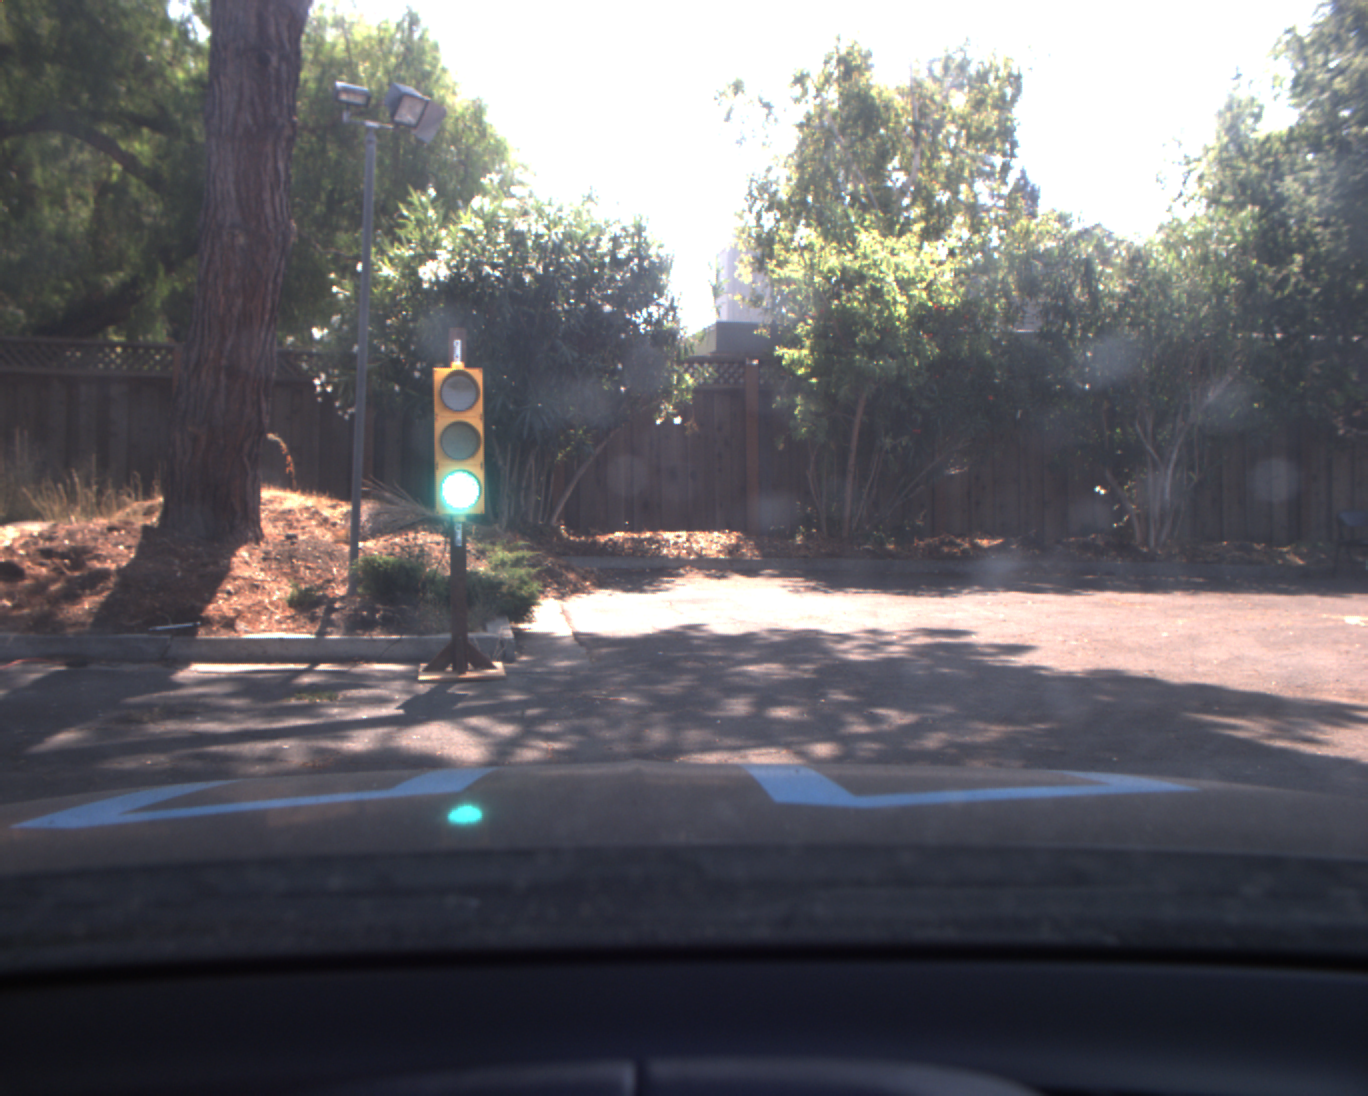green: (430, 360, 490, 520)
